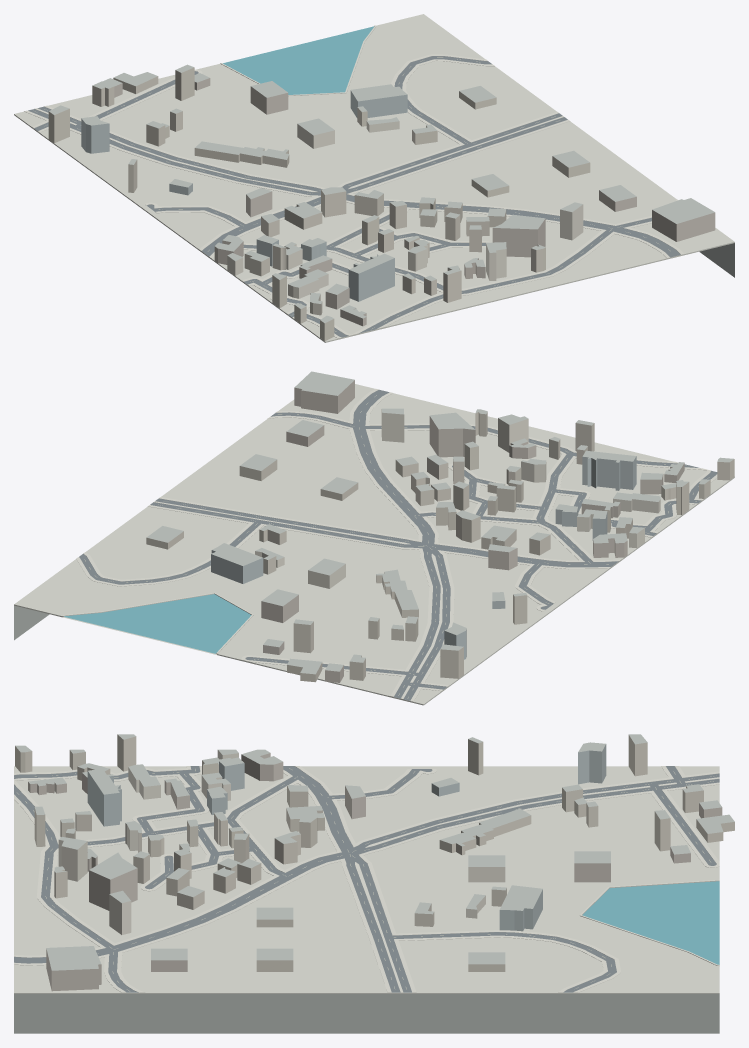
3 renders of one model, top to bottom at view 1: azimuth 30°, elevation 25°; view 2: azimuth 150°, elevation 25°; view 3: azimuth 270°, elevation 25°, orthographic. The views are drawn at different scales.
Visible parts, largest first — view 1: city; view 2: city; view 3: city.
Boxes of the visible parts, x1=… form: city: x1=14, y1=14, x2=734, y2=342; city: x1=14, y1=371, x2=734, y2=705; city: x1=14, y1=734, x2=734, y2=1033.
Size of the model in its own units: 380 by 57 by 511.
